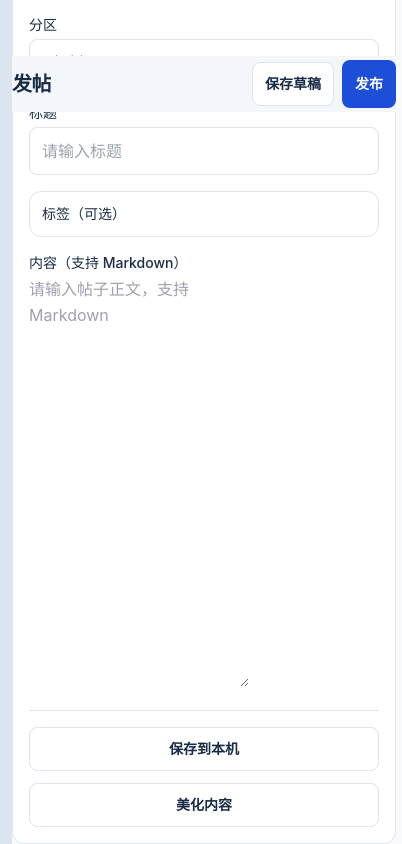
Scenario: ThreadCreate › blocks publishing during upload and preserves the body after upload failure
(page scrolled)
In the text box with placeholder "请输入帖子正文，支持 Markdown": point(139, 482) [29,277,249,686], type "保留这段正文"
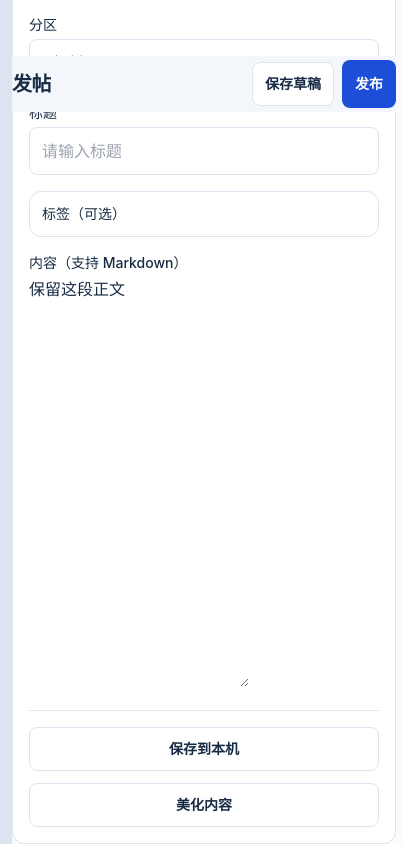
Click the button "发布": point(369, 84) [342,60,396,108]
(page scrolled)
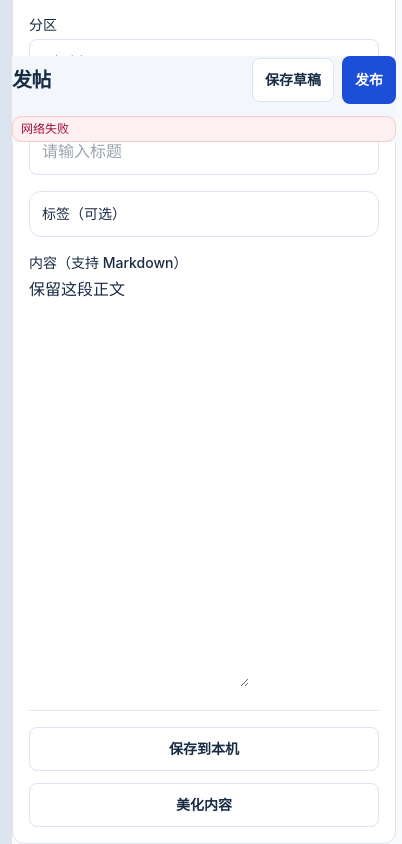
Expected: the button "发布" is enabled, [342,56,396,104]
Expected: the text "网络失败" is shown, [12,116,396,142]
